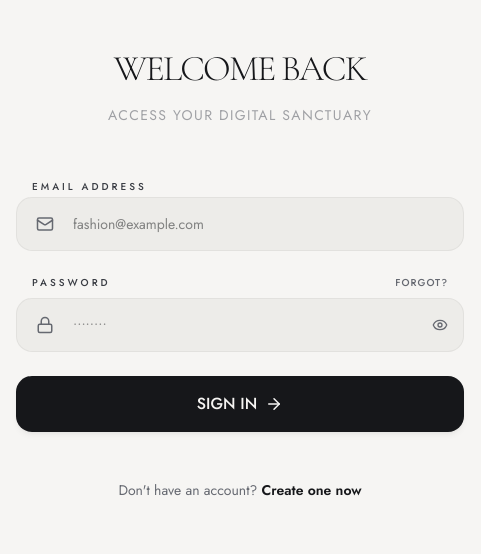
login failures are explained › if the profile can not be loaded after a good login, no half-signed-in token is left behind
The width and height of the screenshot is (481, 554).
Type "nobody@example.com" into the field with placeholder "fashion@example.com".
click(240, 224); type("nobody@example.com")  # box [16,196,464,250]
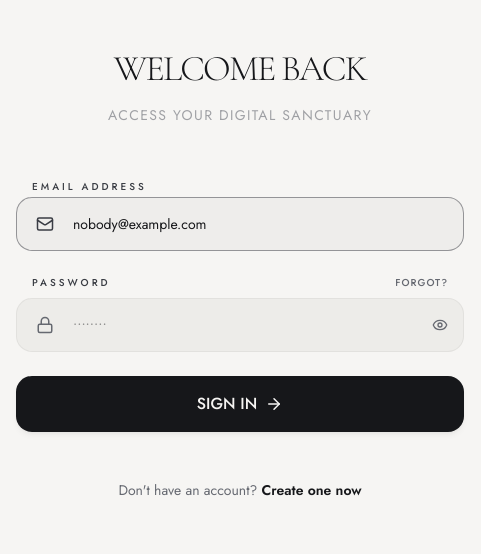
Type "wrong-password" into the password field with placeholder "••••••••".
click(240, 324); type("wrong-password")  # box [16,298,464,352]
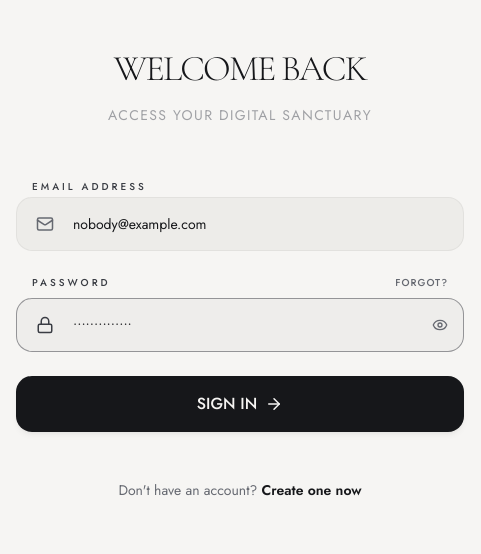
Click the button "SIGN IN".
click(240, 404)  # box [16,376,464,432]
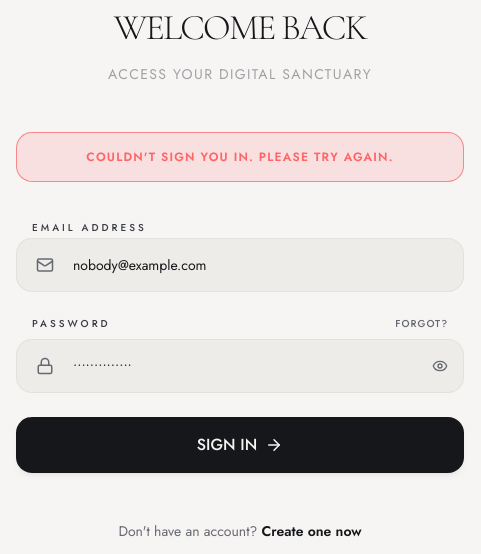
Expected: the message "Couldn't sign you in. Please try again." is shown, [16,132,464,182]
